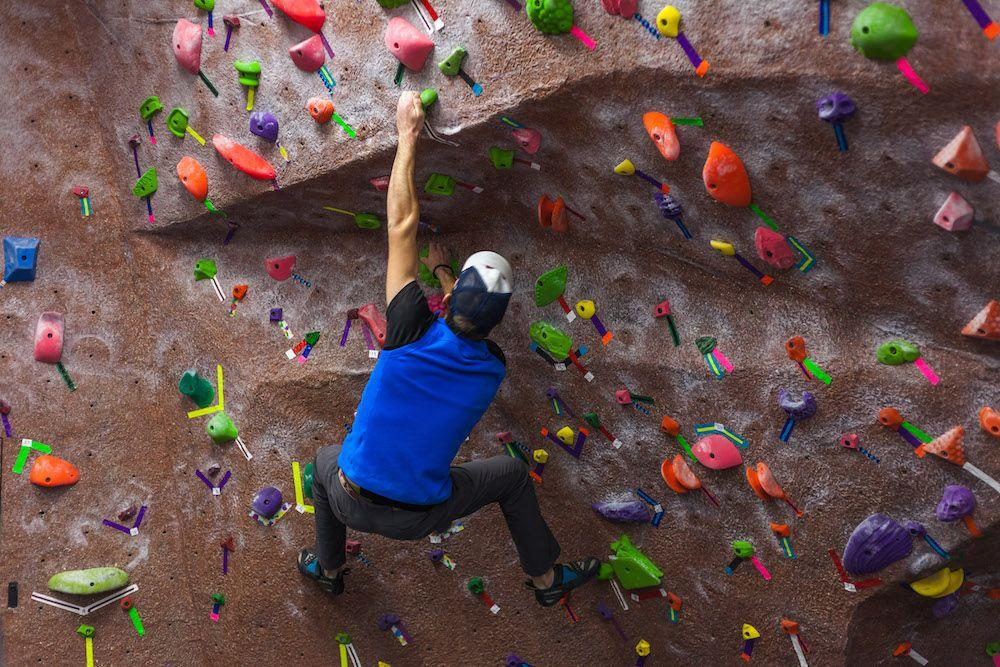black-hold: (830, 504, 920, 594), (685, 137, 768, 220), (841, 0, 927, 75), (596, 532, 668, 604), (930, 123, 1000, 196), (204, 131, 282, 188), (374, 13, 440, 75), (46, 563, 131, 600), (745, 223, 804, 274), (524, 259, 578, 313), (908, 562, 970, 607), (654, 450, 705, 504), (169, 152, 221, 204), (689, 428, 743, 478), (523, 315, 578, 364), (640, 106, 684, 166), (932, 188, 981, 239), (265, 0, 332, 36), (354, 299, 399, 349), (286, 32, 334, 78), (173, 366, 221, 412), (742, 459, 786, 509), (28, 454, 82, 491), (169, 17, 204, 74), (1, 236, 41, 283), (200, 408, 243, 451), (247, 481, 288, 522), (526, 0, 574, 35), (922, 426, 965, 465), (814, 88, 859, 125), (591, 499, 651, 526), (961, 299, 1000, 340), (411, 242, 442, 293), (936, 484, 977, 521), (35, 311, 64, 363), (437, 43, 475, 81), (648, 186, 686, 224), (302, 90, 339, 127), (508, 122, 546, 156), (537, 193, 568, 234), (128, 168, 164, 201), (777, 389, 816, 418), (874, 401, 907, 435), (162, 104, 192, 140), (877, 340, 920, 365), (265, 254, 300, 284), (654, 4, 683, 39), (134, 92, 166, 123), (250, 111, 279, 143), (233, 59, 262, 87), (707, 235, 739, 260), (601, 0, 638, 20), (979, 406, 1000, 441), (612, 156, 639, 183), (656, 413, 684, 439), (424, 172, 455, 195), (785, 336, 807, 365), (555, 423, 580, 448), (488, 146, 514, 170), (662, 589, 686, 613), (193, 258, 217, 281), (116, 502, 141, 524), (891, 639, 914, 662), (777, 616, 802, 637), (574, 298, 596, 321), (582, 408, 604, 431), (302, 462, 315, 500), (651, 298, 673, 320), (376, 613, 401, 632), (466, 575, 487, 597), (355, 213, 381, 230), (732, 539, 754, 559), (368, 173, 390, 193), (125, 131, 146, 151), (204, 460, 224, 480), (426, 293, 445, 314), (420, 88, 439, 109), (445, 257, 464, 278), (75, 622, 97, 640), (695, 336, 717, 354), (904, 521, 926, 537), (742, 623, 761, 641), (376, 0, 408, 10), (615, 387, 632, 405), (598, 562, 615, 580), (635, 638, 651, 657), (232, 283, 248, 301), (840, 434, 859, 449), (770, 523, 789, 537), (193, 0, 215, 12), (219, 537, 235, 553), (533, 449, 549, 464), (0, 398, 13, 416), (428, 549, 445, 562), (223, 16, 240, 29), (504, 656, 524, 667), (72, 186, 90, 198), (305, 332, 320, 346), (335, 633, 352, 645), (119, 598, 133, 611), (994, 121, 1000, 150), (270, 309, 283, 322), (212, 594, 225, 605), (547, 387, 557, 398), (377, 660, 392, 667)
